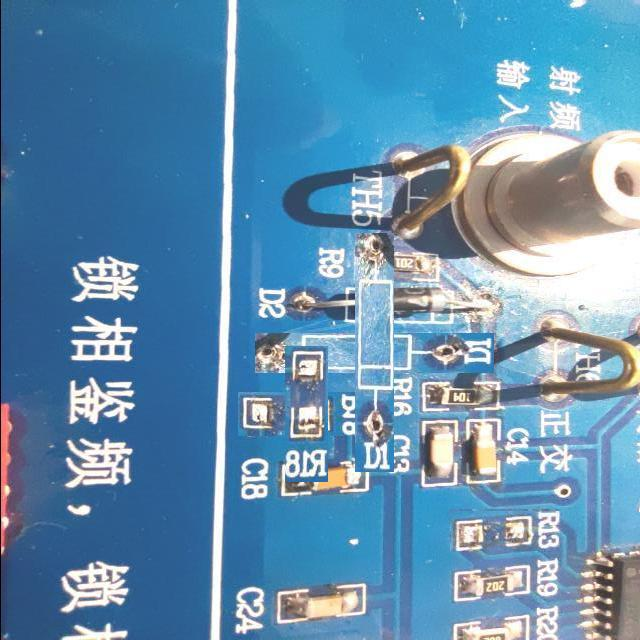miss_welding: (305, 283, 444, 423), (261, 369, 351, 459), (450, 509, 560, 552)
